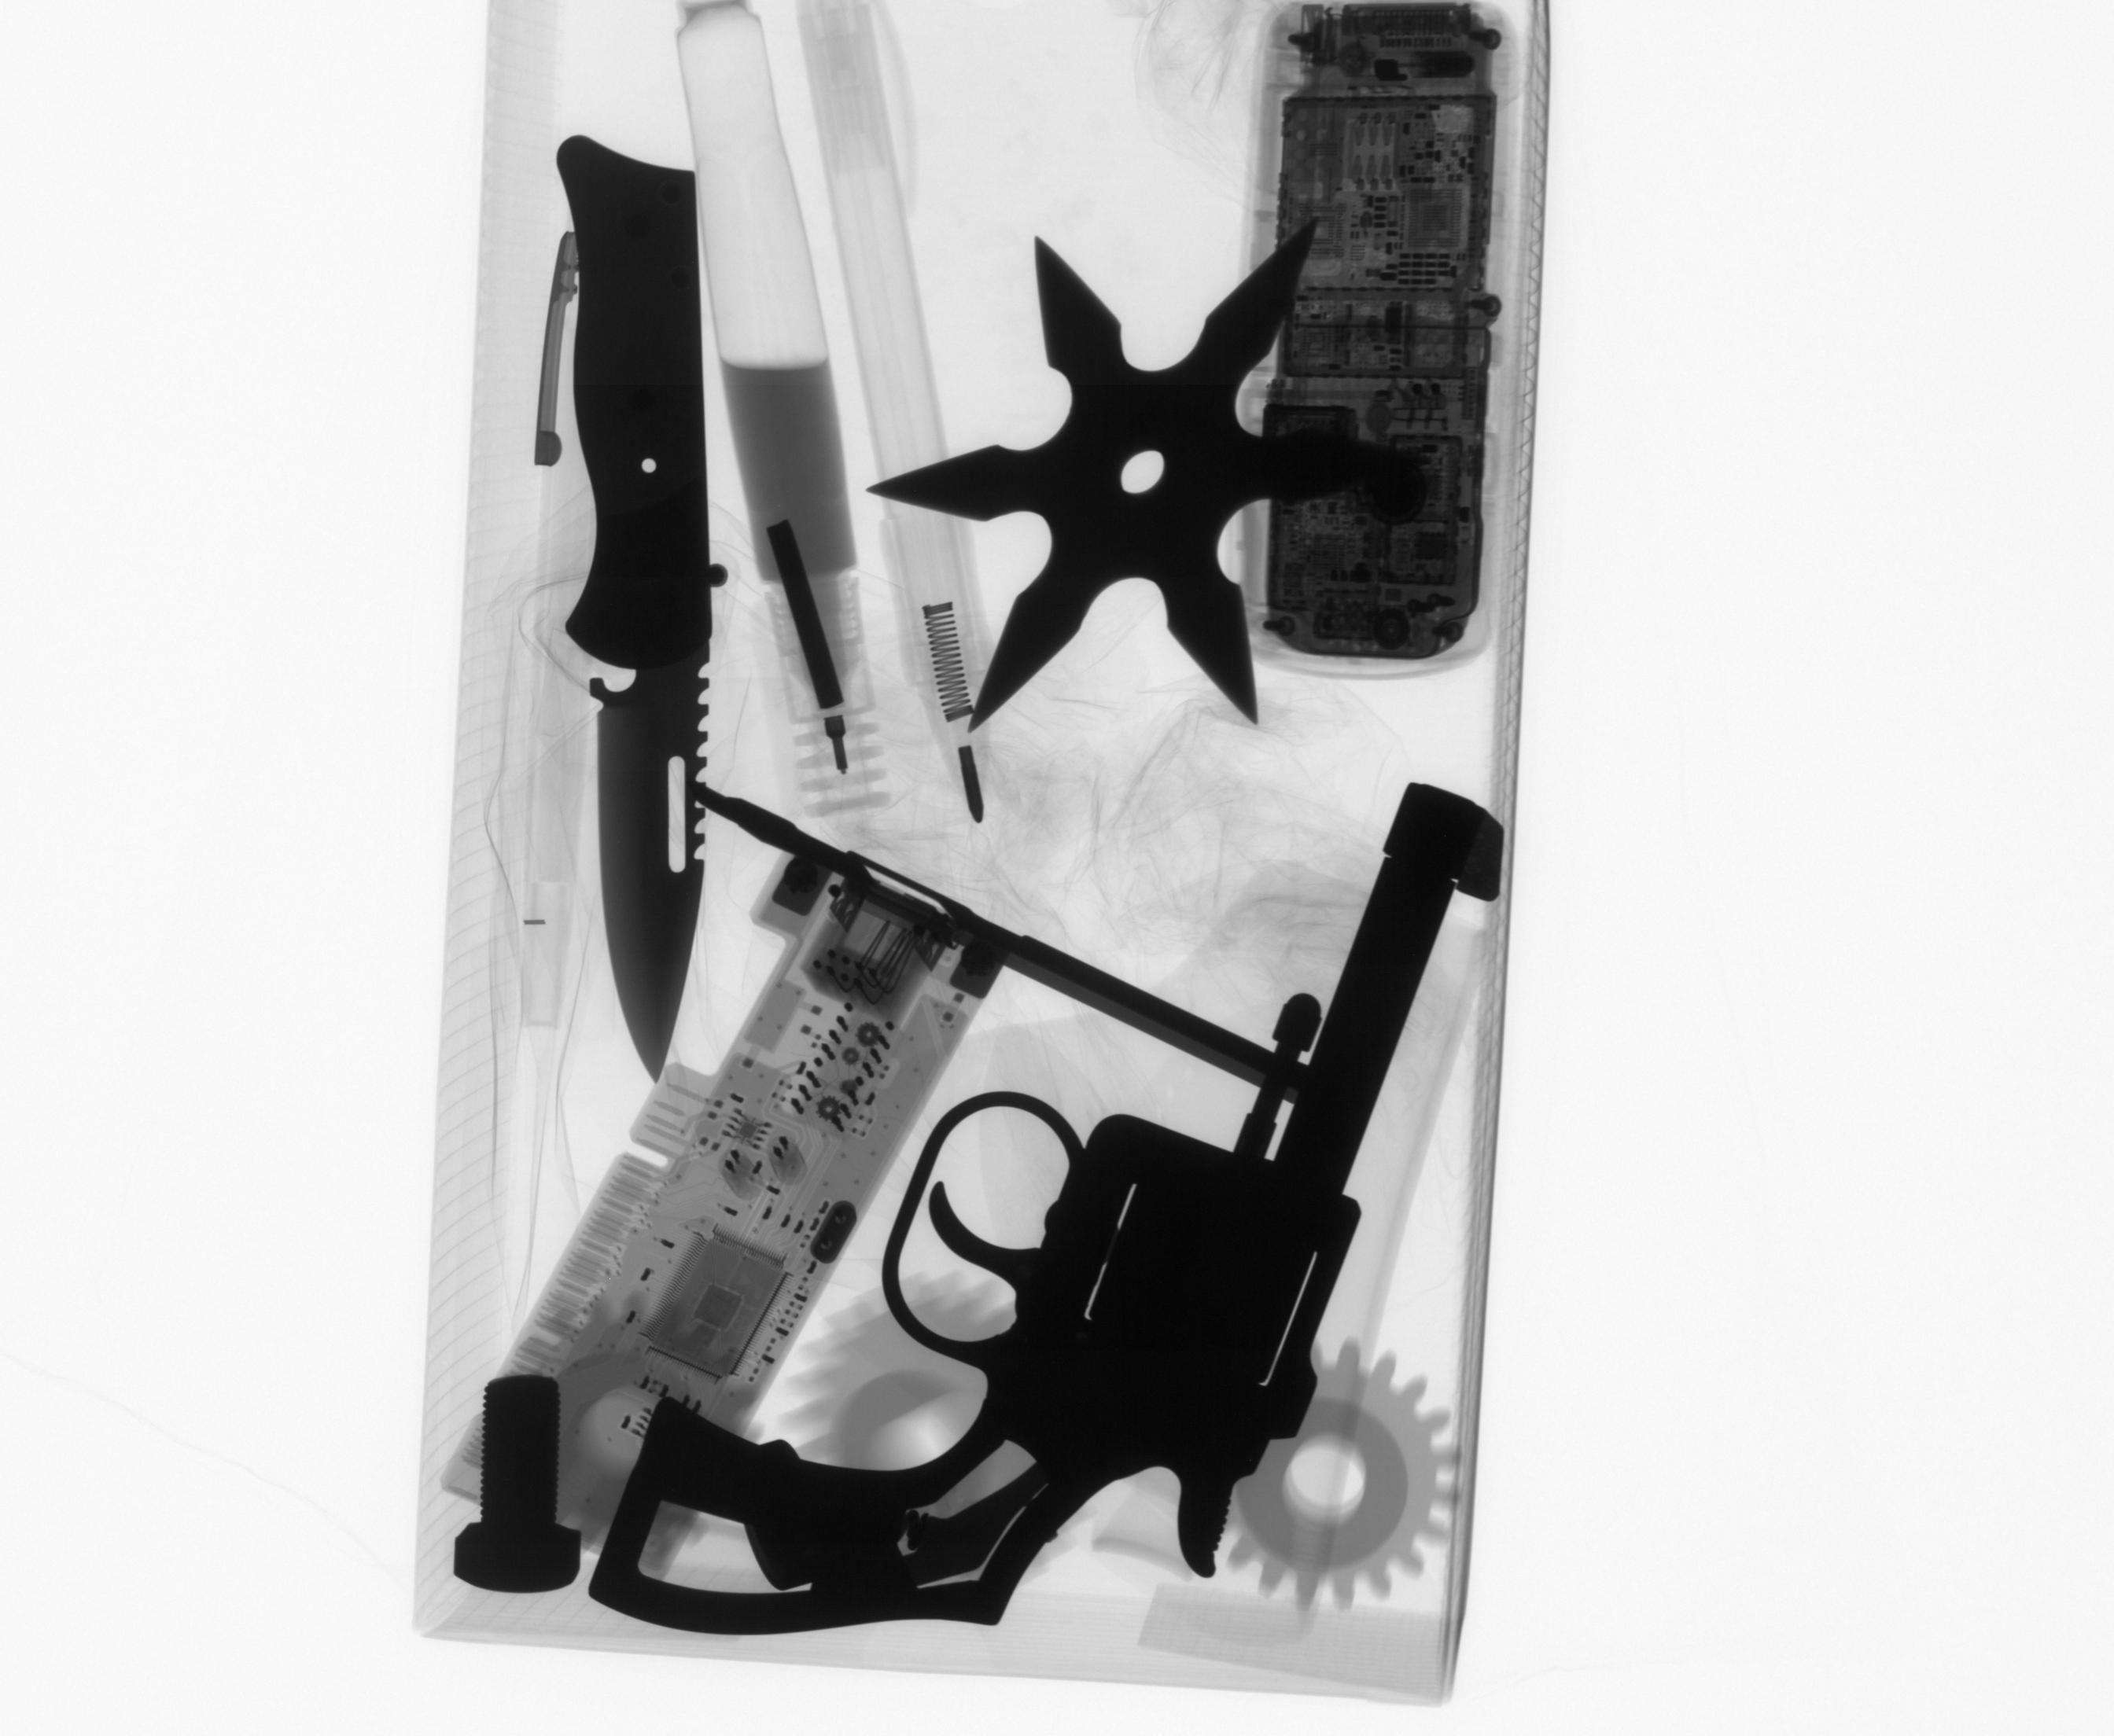Handgun: (582, 775, 1511, 1644)
Knife: (543, 127, 734, 1088)
Shuriken: (861, 229, 1405, 741)
